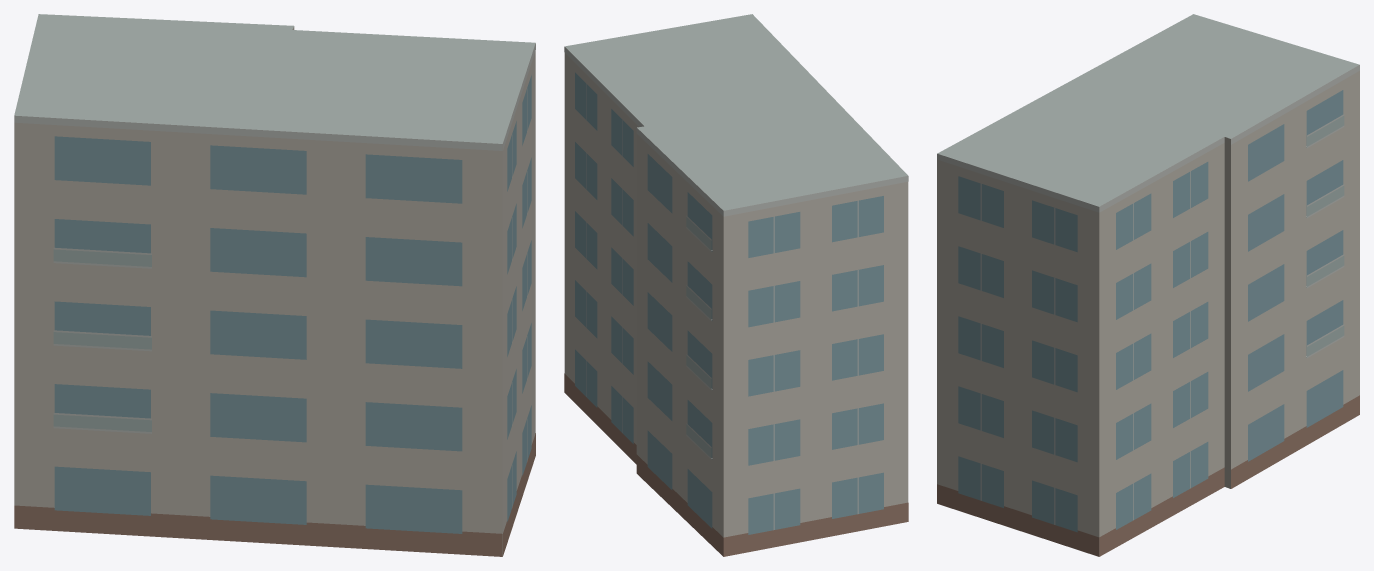
File: survey-upis-32767512.glb
3 renders of one model, left to right at view 1: azimuth 30°, elevation 25°; view 2: azimuth 150°, elevation 25°; view 3: azimuth 270°, elevation 25°, orthographic. The views are drawn at different scales.
Visible parts, largest first — view 1: survey-upis-32767512.tmp; view 2: survey-upis-32767512.tmp; view 3: survey-upis-32767512.tmp.
Boxes of the visible parts, x1,y1,x2,y2 form: survey-upis-32767512.tmp: (14, 14, 535, 556); survey-upis-32767512.tmp: (564, 14, 908, 556); survey-upis-32767512.tmp: (937, 14, 1359, 556).
Size of the model in its own units: 17.02 by 14.4 by 15.77.
